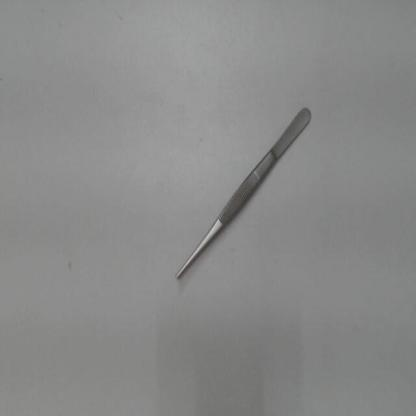Gillies Toothed Dissector: (174, 95, 319, 286)
